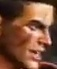kevin: (5, 0, 50, 66)
